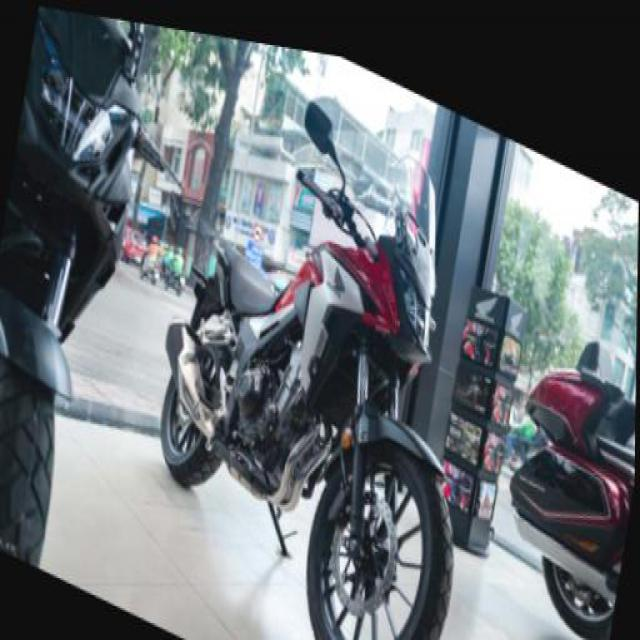CB500X: (132, 45, 518, 638)
